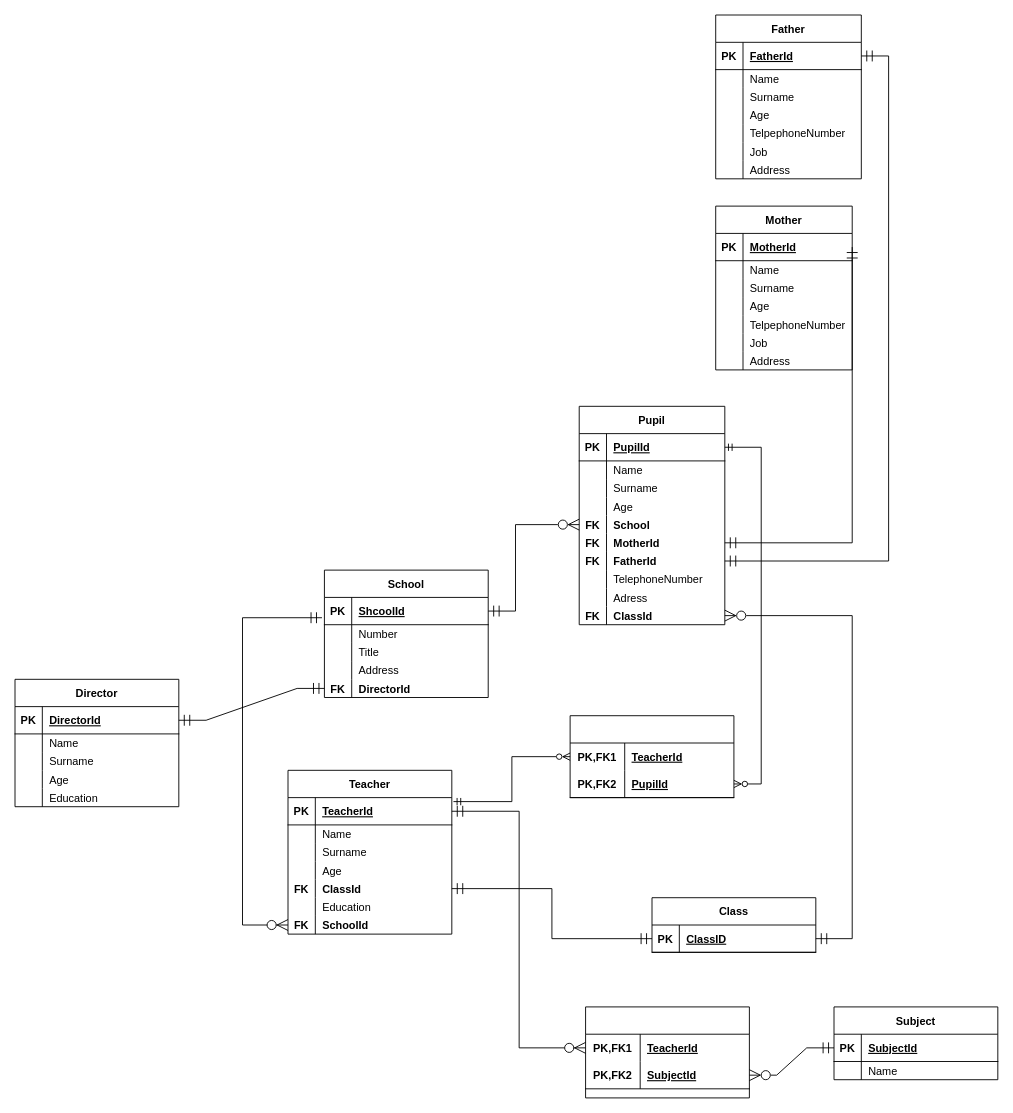
This 1013x1113 diagram has some shape labels left out. The box of each missing label's shape, as (x1, y1, x2, y2) in pixels:
TeacherPupil: (569, 715, 734, 798)
TeacherSubject: (585, 1006, 749, 1098)
